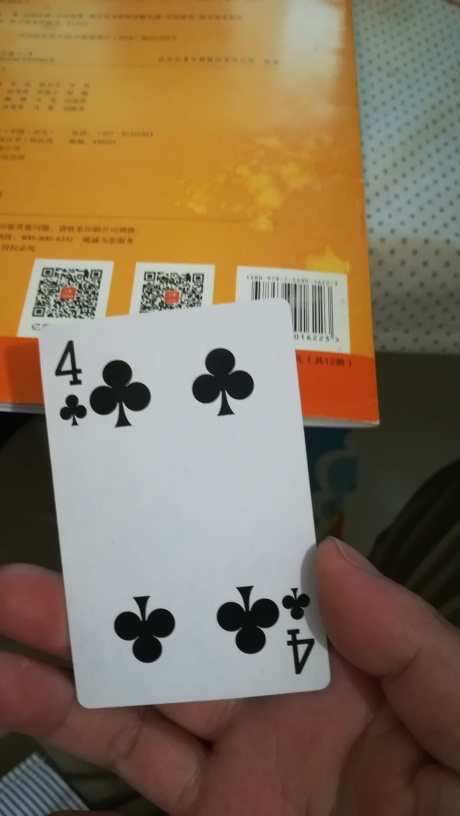mh 4: (38, 297, 335, 710)
